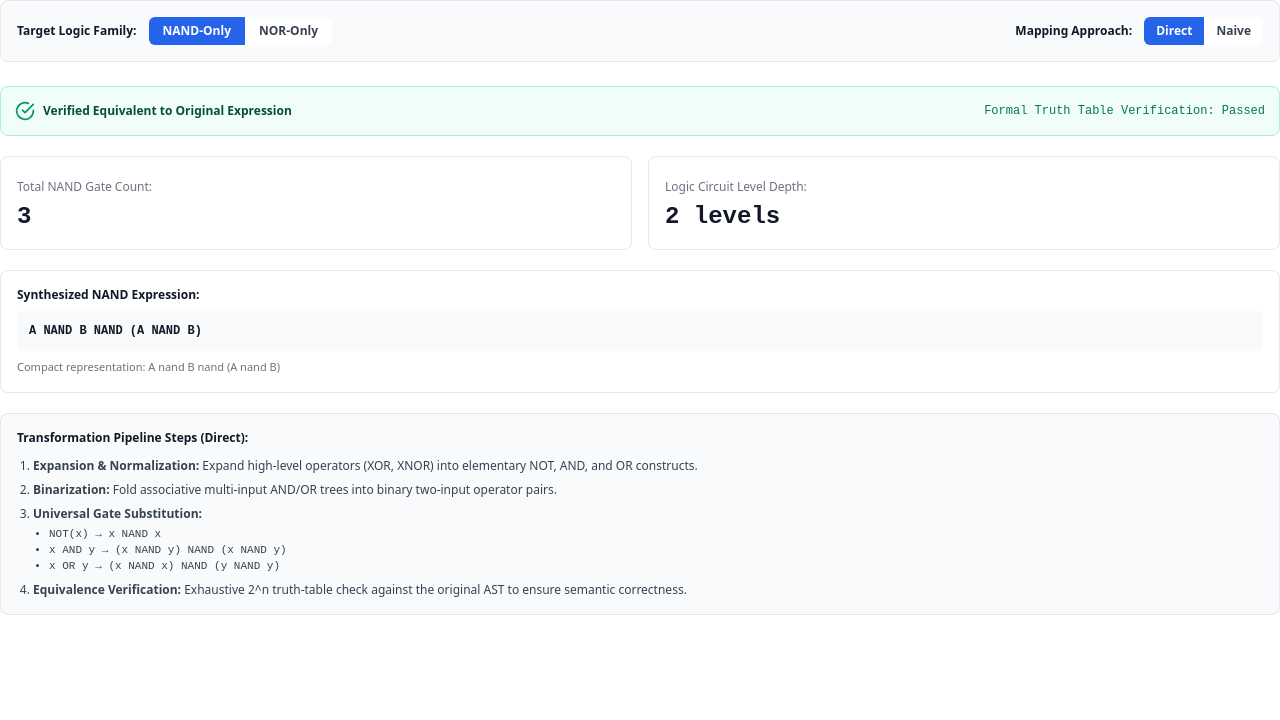
Test case: UniversalGatePanel › switches between NAND-only and NOR-only forms
Click the radio button labelled "NOR-Only" at [288, 31], box [245,17,332,45]
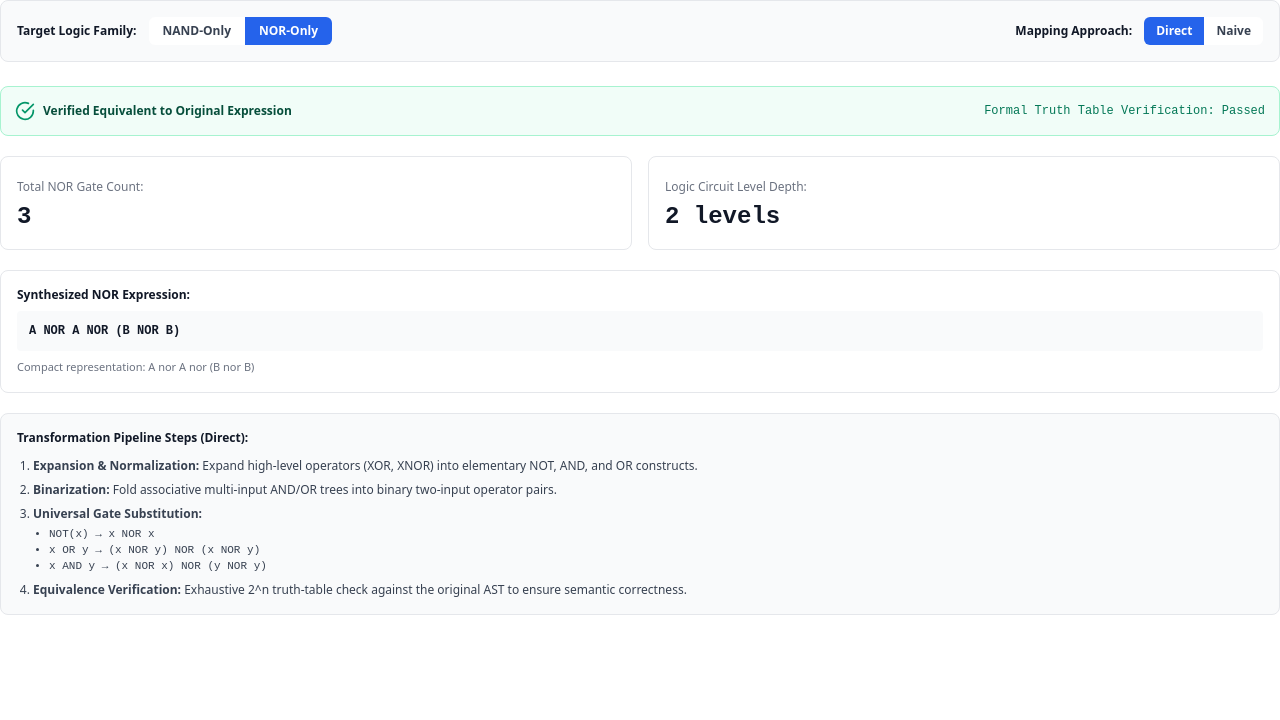
Expected: the text "Total NOR Gate Count:" is shown, [17,178,143,195]
Expected: the text "Synthesized NOR Expression:" is shown, [17,286,190,303]
